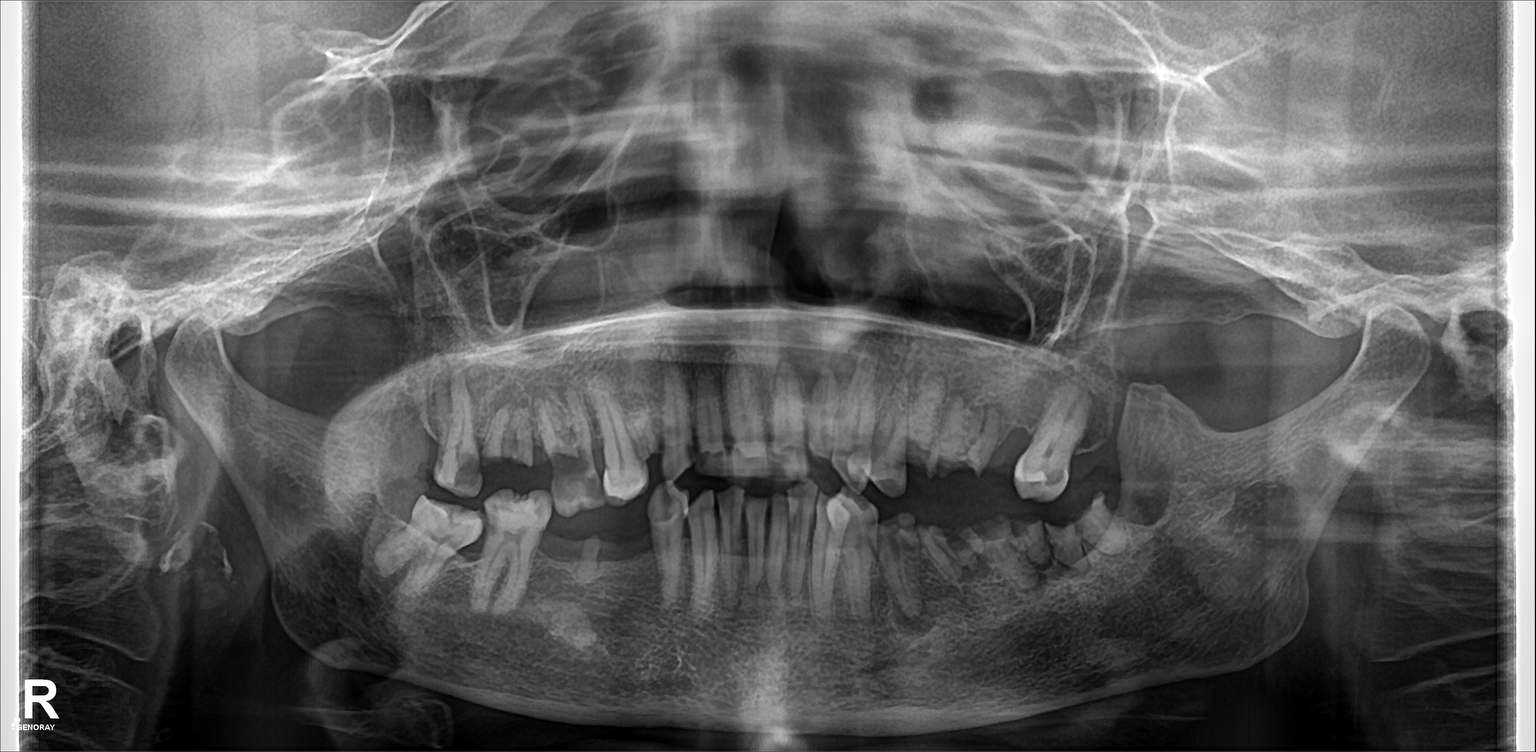Cyst: (1114, 463, 1170, 532)
Dental Caries: (1024, 426, 1065, 480), (549, 434, 588, 481), (451, 456, 477, 493)
Impacted Third Molar: (395, 497, 474, 591)
Missing Tooth: (607, 523, 653, 612)
Periapical Lesion: (534, 592, 621, 663)
Retained Root: (873, 521, 918, 618), (555, 530, 602, 617), (492, 387, 533, 478), (970, 512, 1013, 597), (924, 519, 961, 597), (1054, 517, 1091, 588), (1024, 516, 1050, 600), (1088, 503, 1117, 557)
